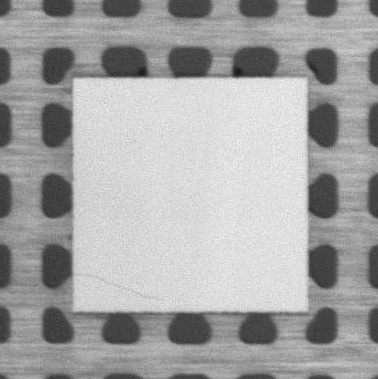DIE_CRACK: (74, 273, 166, 301)
